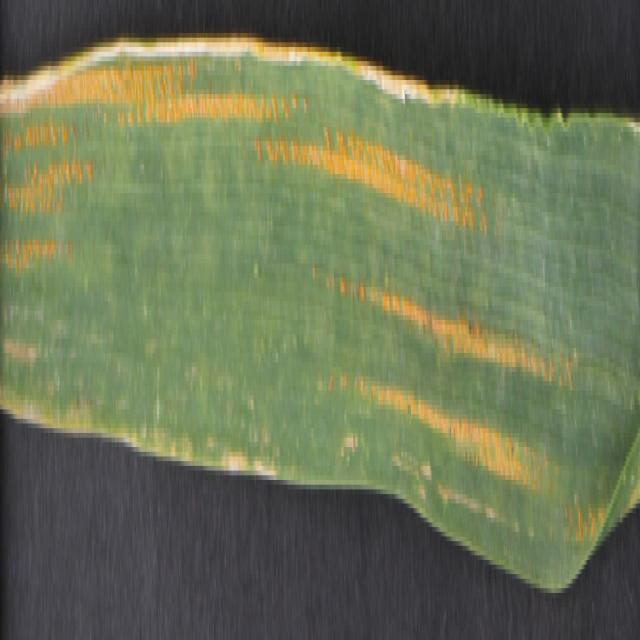leaf rust: (0, 42, 582, 522)
